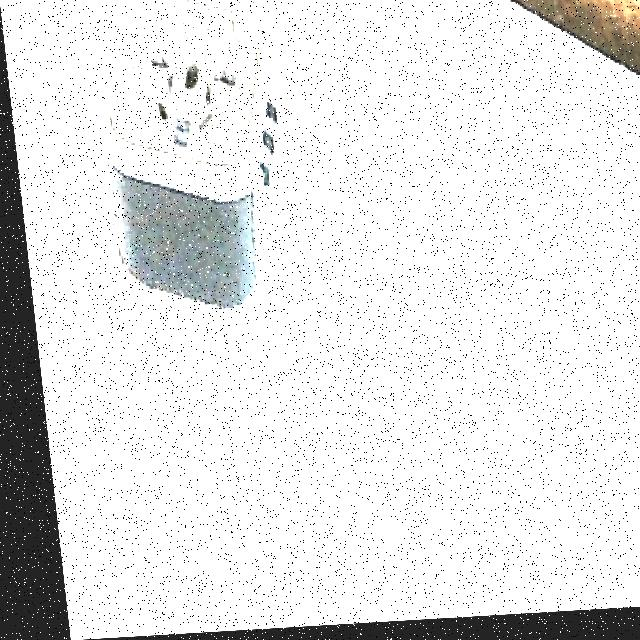adapter: (82, 0, 294, 316)
